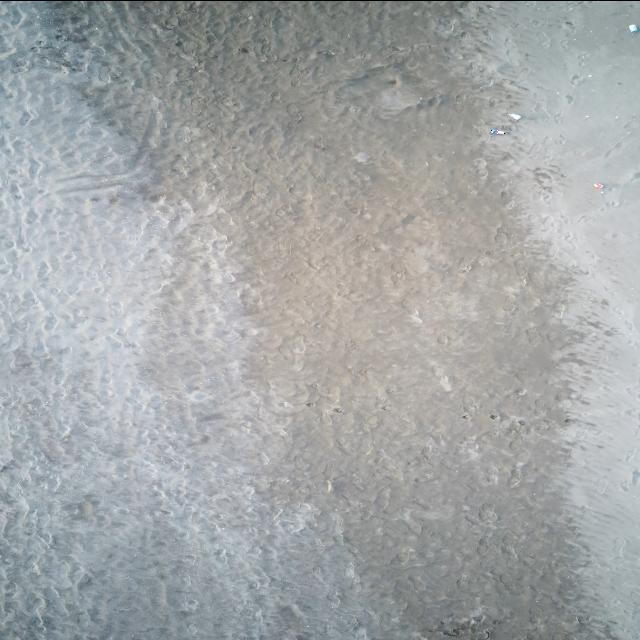Garbage: (592, 181, 604, 190), (489, 128, 507, 134), (507, 112, 520, 120), (628, 24, 639, 31)
